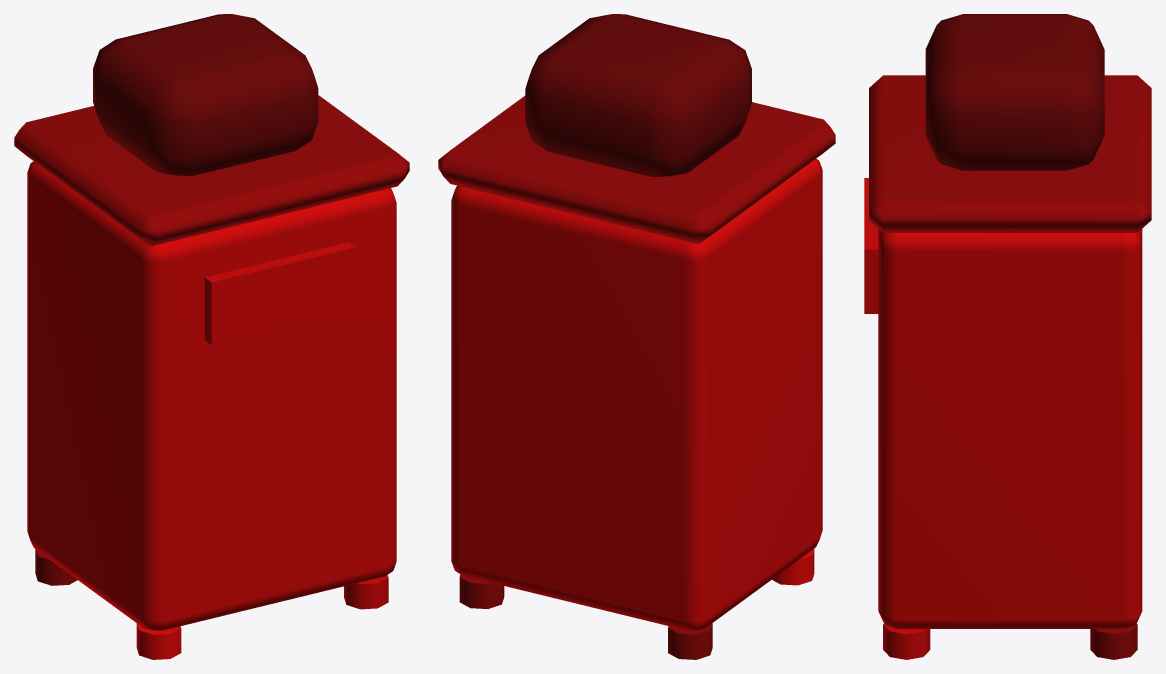
File: bin_a.glb
The picture shows the model from 3 angles, left to right: view 1: azimuth 30°, elevation 25°; view 2: azimuth 150°, elevation 25°; view 3: azimuth 270°, elevation 25°; orthographic projection. The views are drawn at different scales.
Parts seen in each view (by area): view 1: bin_a; view 2: bin_a; view 3: bin_a.
Part boxes in pixels (x1=…): bin_a: x1=14, y1=14, x2=409, y2=659; bin_a: x1=438, y1=14, x2=835, y2=659; bin_a: x1=864, y1=14, x2=1151, y2=659.
Size of the model in its own units: 0.68 by 1.3 by 0.61.
